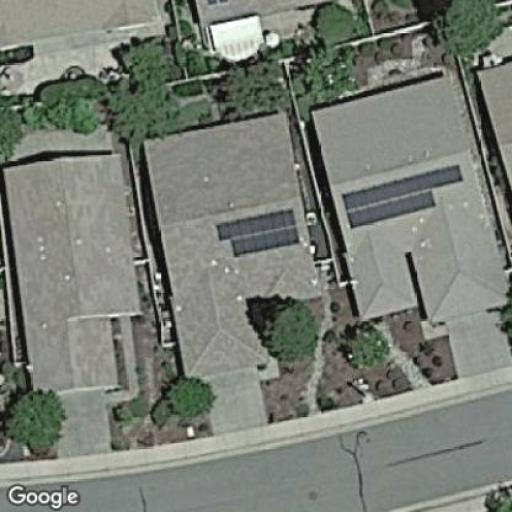solar-panel: (343, 166, 467, 232), (214, 207, 300, 258)
